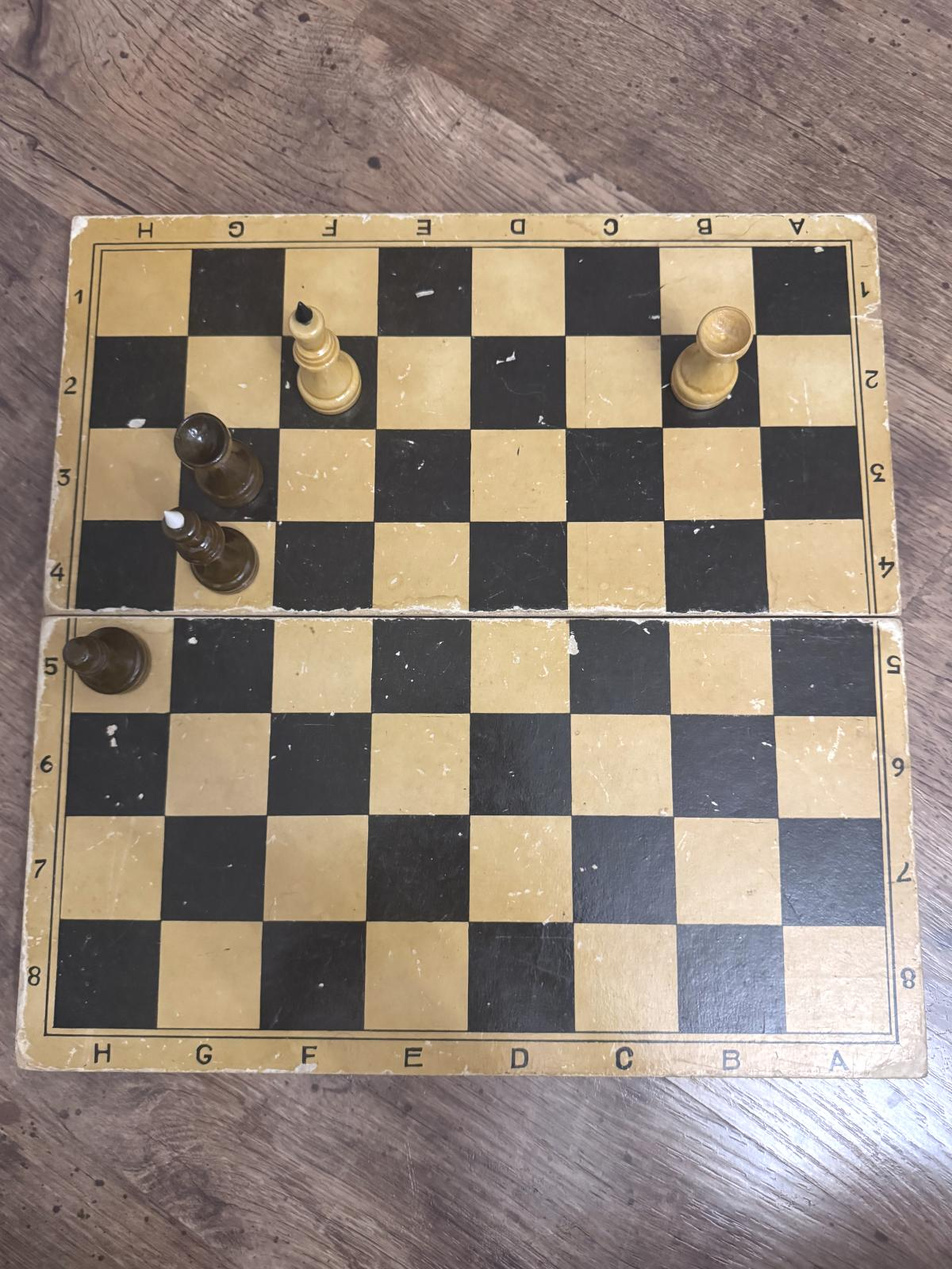Chess-Board: (54, 247, 891, 1034)
